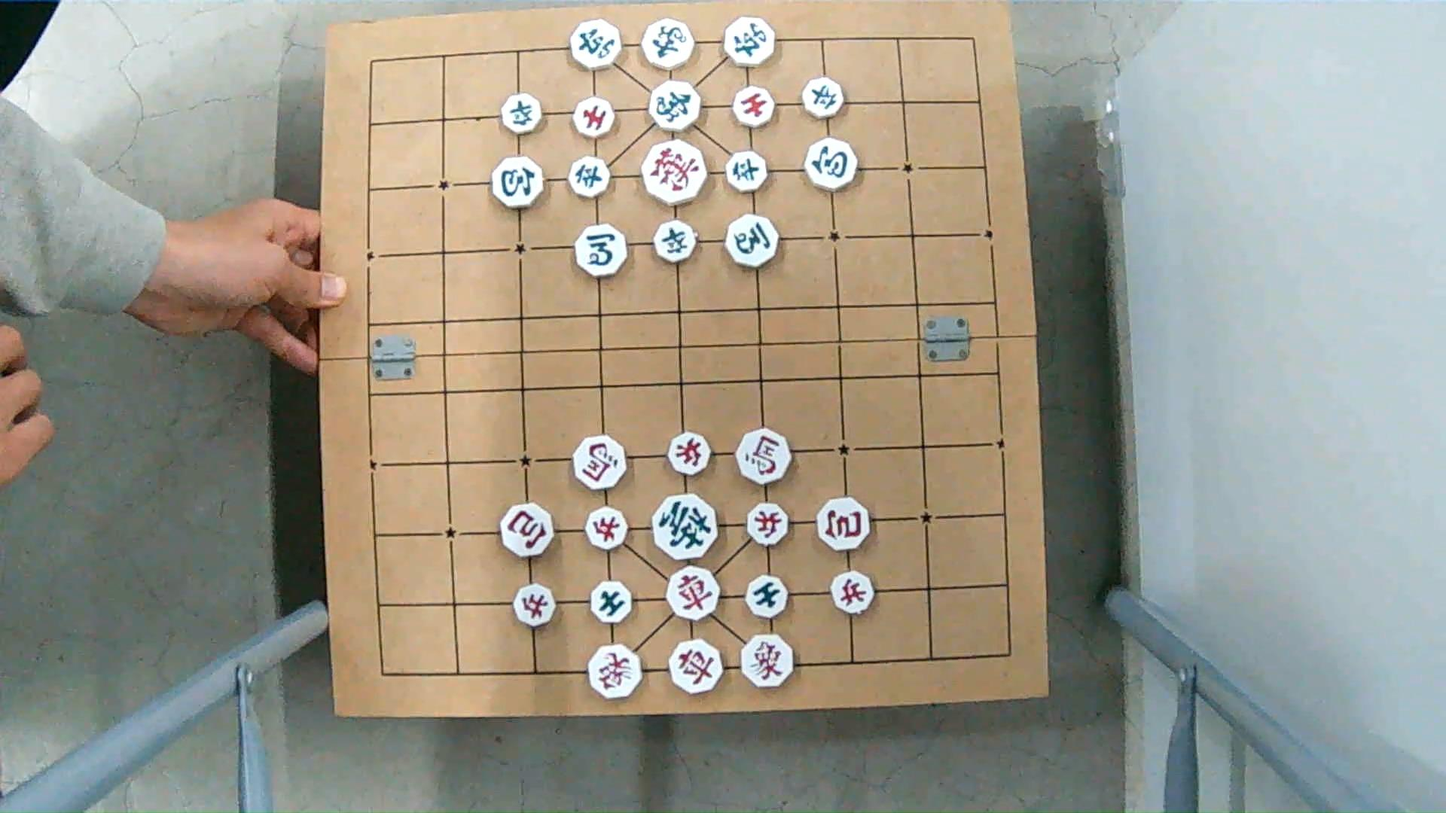cha_green: (566, 20, 625, 66), (721, 20, 779, 65)
cha_red: (666, 643, 725, 693), (663, 568, 721, 618)
jol_green: (654, 221, 696, 265), (801, 79, 847, 117), (568, 157, 610, 197), (502, 97, 546, 135), (727, 153, 767, 193)
jol_red: (585, 507, 630, 551), (826, 571, 874, 610), (747, 503, 789, 547), (511, 586, 558, 625), (668, 434, 709, 473)
ma_green: (724, 216, 783, 266), (573, 227, 631, 276)
ma_red: (734, 429, 794, 483), (571, 439, 630, 488)
po_green: (801, 143, 859, 191), (489, 159, 546, 207)
po_red: (499, 507, 557, 557), (816, 501, 874, 549)
sa_green: (743, 577, 793, 615), (590, 582, 636, 622)
sa_red: (573, 98, 619, 136), (730, 89, 777, 126)
sang_green: (639, 19, 697, 66), (648, 86, 706, 132)
sang_red: (584, 648, 646, 699), (737, 636, 796, 687)
wang_green: (651, 499, 722, 557)
wang_red: (638, 145, 708, 204)
